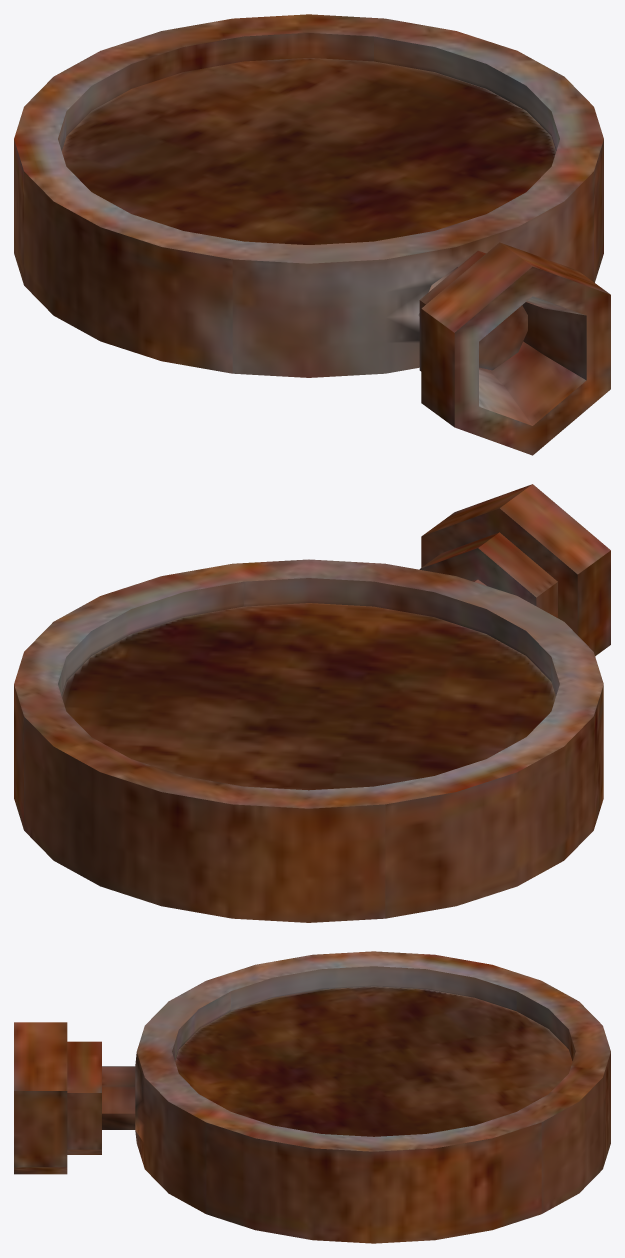
File: small_steel_pipe_19.glb
3 views of the same model, one above another, from view 1: azimuth 30°, elevation 25°; view 2: azimuth 150°, elevation 25°; view 3: azimuth 270°, elevation 25° (orthographic). The views are drawn at different scales.
Parts seen in each view (by area): view 1: small_steel_pipe_19; view 2: small_steel_pipe_19; view 3: small_steel_pipe_19.
Boxes of the visible parts, x1,y1,x2,y2 form: small_steel_pipe_19: (14, 14, 610, 455); small_steel_pipe_19: (14, 484, 610, 922); small_steel_pipe_19: (14, 951, 610, 1243).
Size of what is drawn, in the model's own units: 0.0588 by 0.0208 by 0.074.
Materials: 1 (1 with a texture image).
